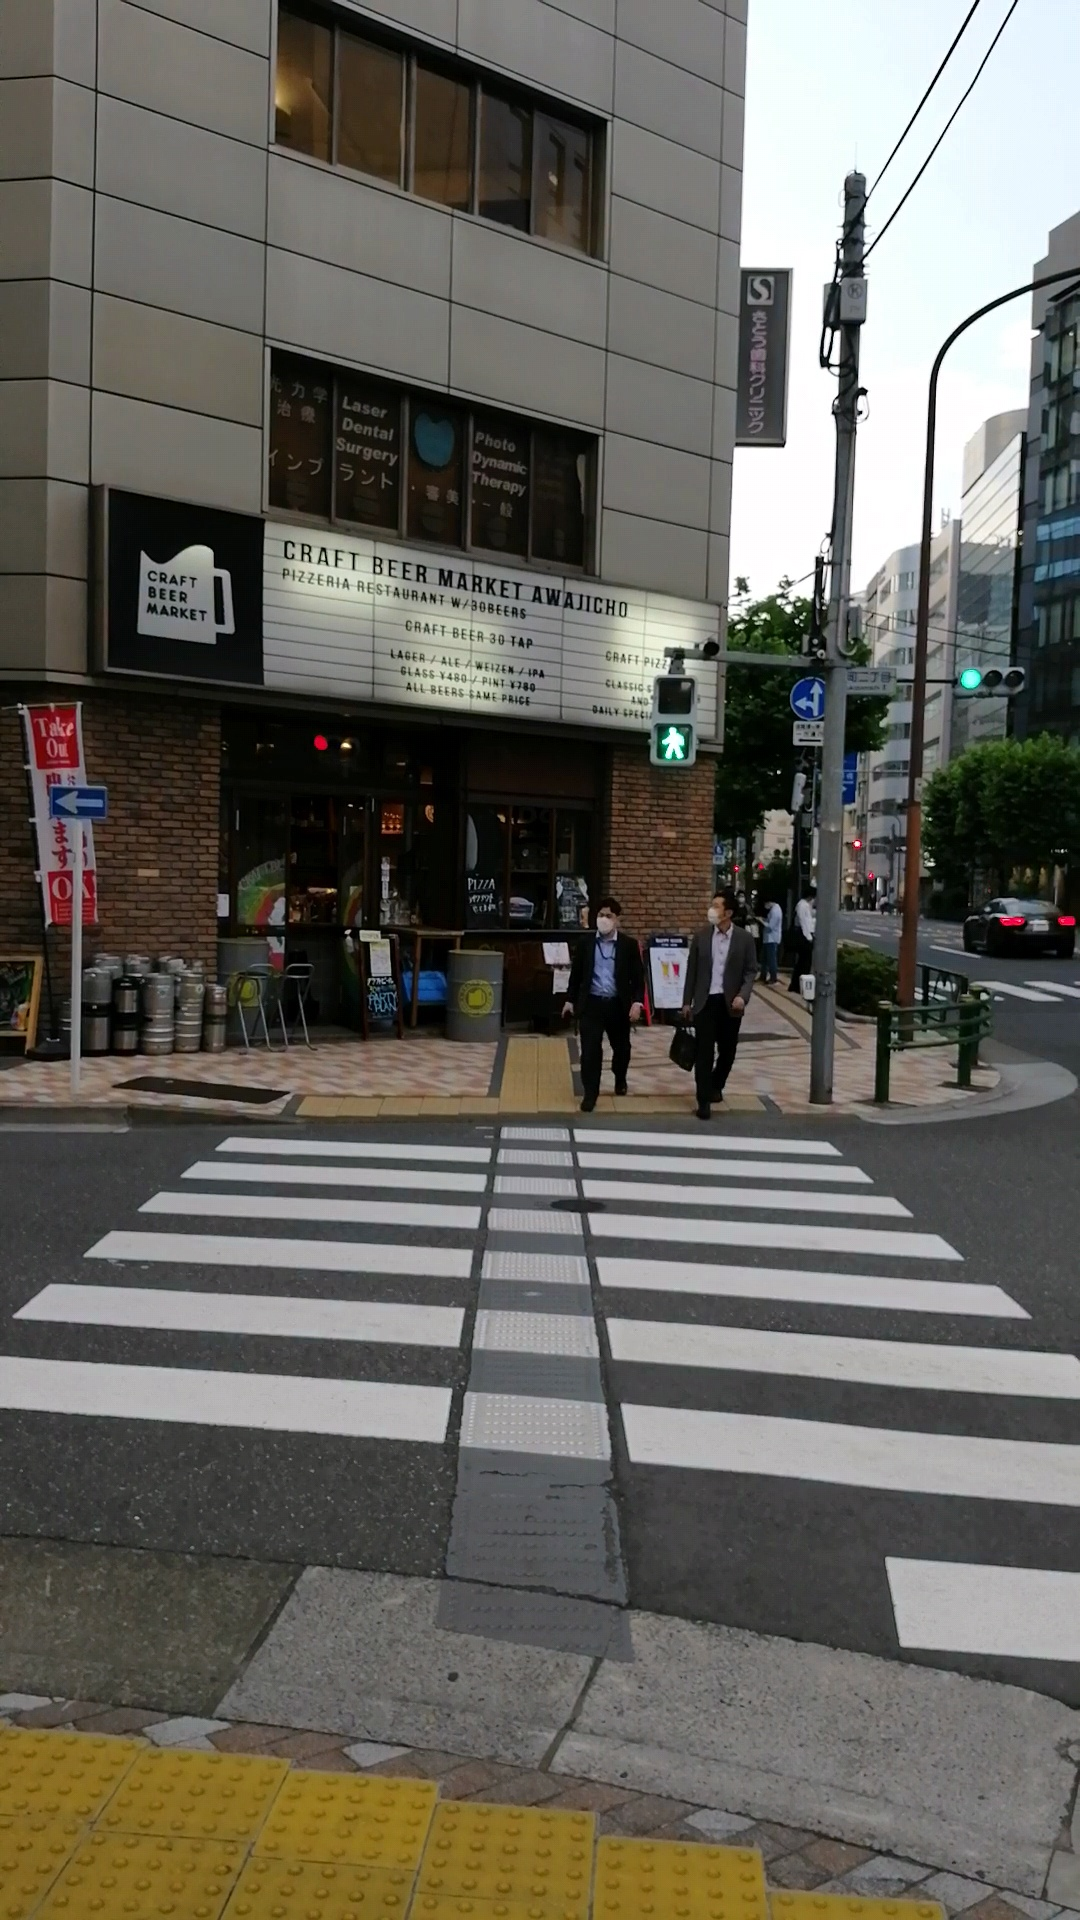green: (651, 673, 698, 765)
